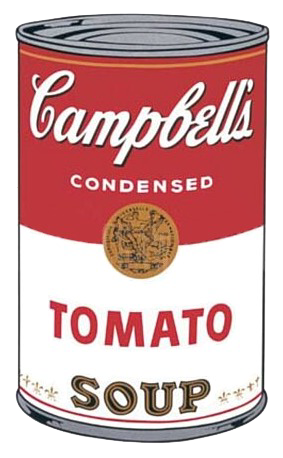grozi_88: (15, 12, 270, 443)
